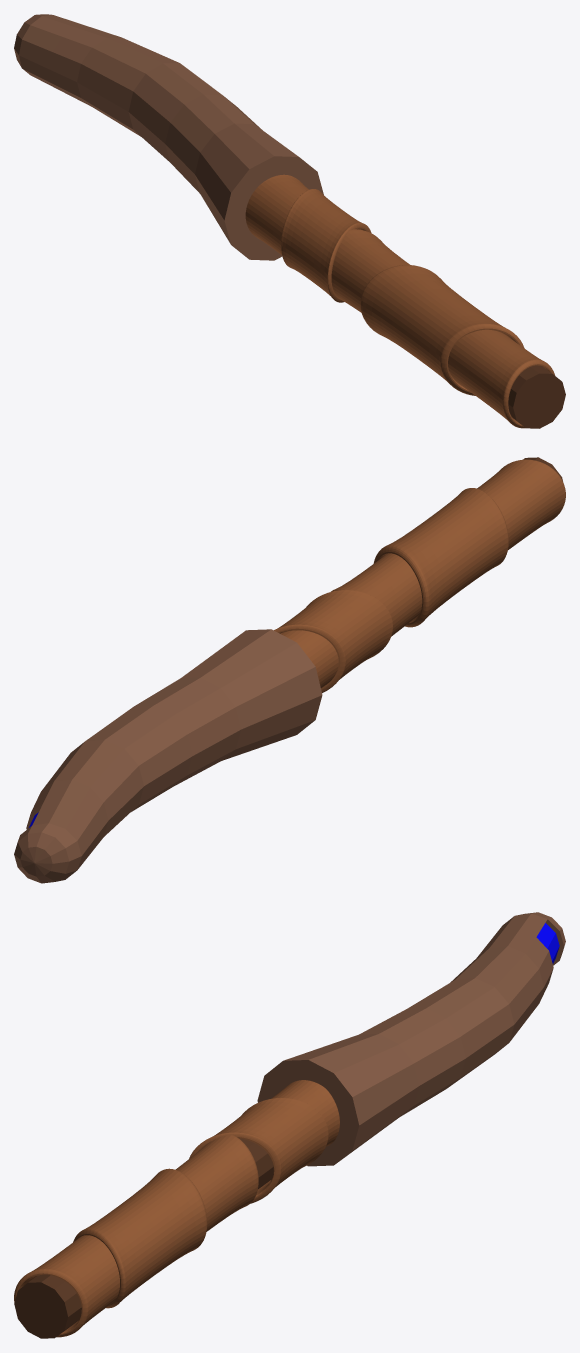
Rendered from Wand 23.glb.
The picture shows the model from 3 angles, top to bottom: view 1: azimuth 30°, elevation 25°; view 2: azimuth 150°, elevation 25°; view 3: azimuth 330°, elevation 25°; orthographic projection.
Parts seen in each view (by area): view 1: GeneratedWand; view 2: GeneratedWand; view 3: GeneratedWand.
Boxes of the visible parts, x1,y1,x2,y2 form: GeneratedWand: (14,14,565,428); GeneratedWand: (14,457,565,883); GeneratedWand: (14,912,565,1338).
Bounding box in the file's own units: 0.0644 × 0.0572 × 0.4987.
